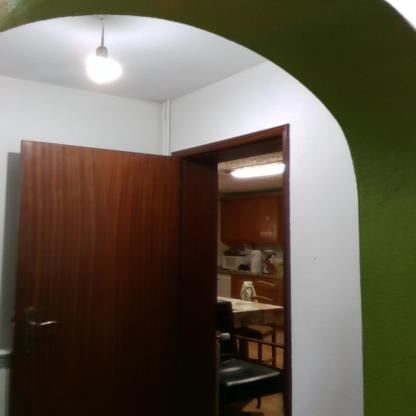open: (0, 106, 304, 416)
